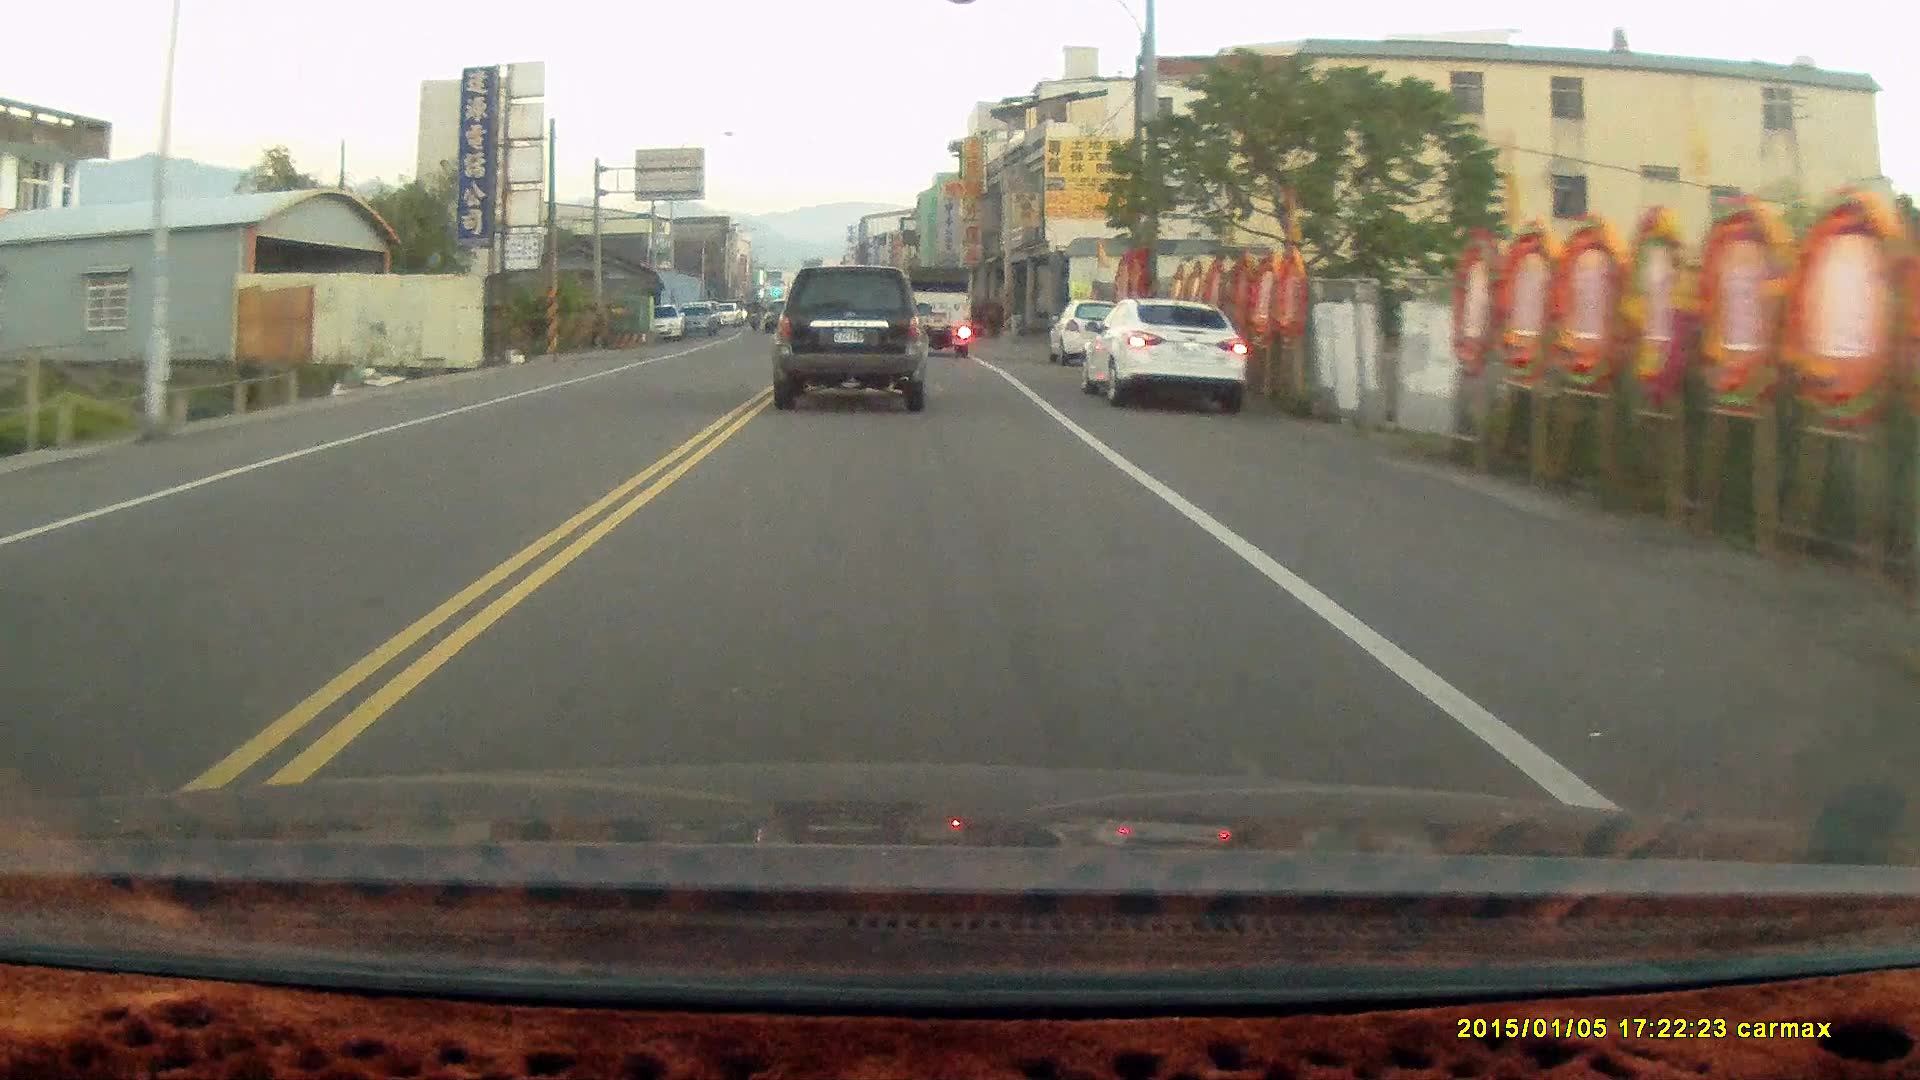vehicle: (771, 261, 932, 411), (1083, 291, 1247, 407), (901, 262, 977, 357), (1047, 295, 1141, 364)
